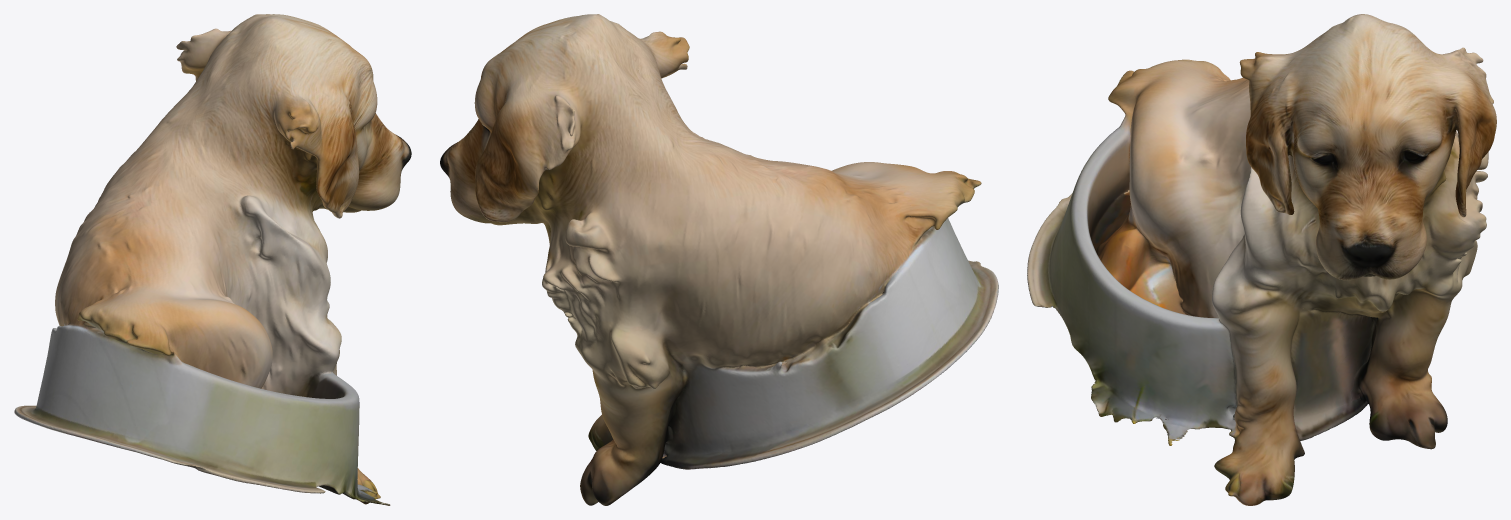
File: PERRO5.fbx
The picture shows the model from 3 angles, left to right: view 1: azimuth 30°, elevation 25°; view 2: azimuth 150°, elevation 25°; view 3: azimuth 270°, elevation 25°; orthographic projection. The views are drawn at different scales.
Parts seen in each view (by area): view 1: tripo_node_0c0ffbe6; view 2: tripo_node_0c0ffbe6; view 3: tripo_node_0c0ffbe6.
Boxes of the visible parts, bbox=[...] form: tripo_node_0c0ffbe6: bbox=[14, 14, 411, 505]; tripo_node_0c0ffbe6: bbox=[440, 14, 998, 505]; tripo_node_0c0ffbe6: bbox=[1027, 14, 1496, 505].
Bounding box in the file's own units: 100 × 99.49 × 90.29.
Materials: 1 (1 with a texture image).
